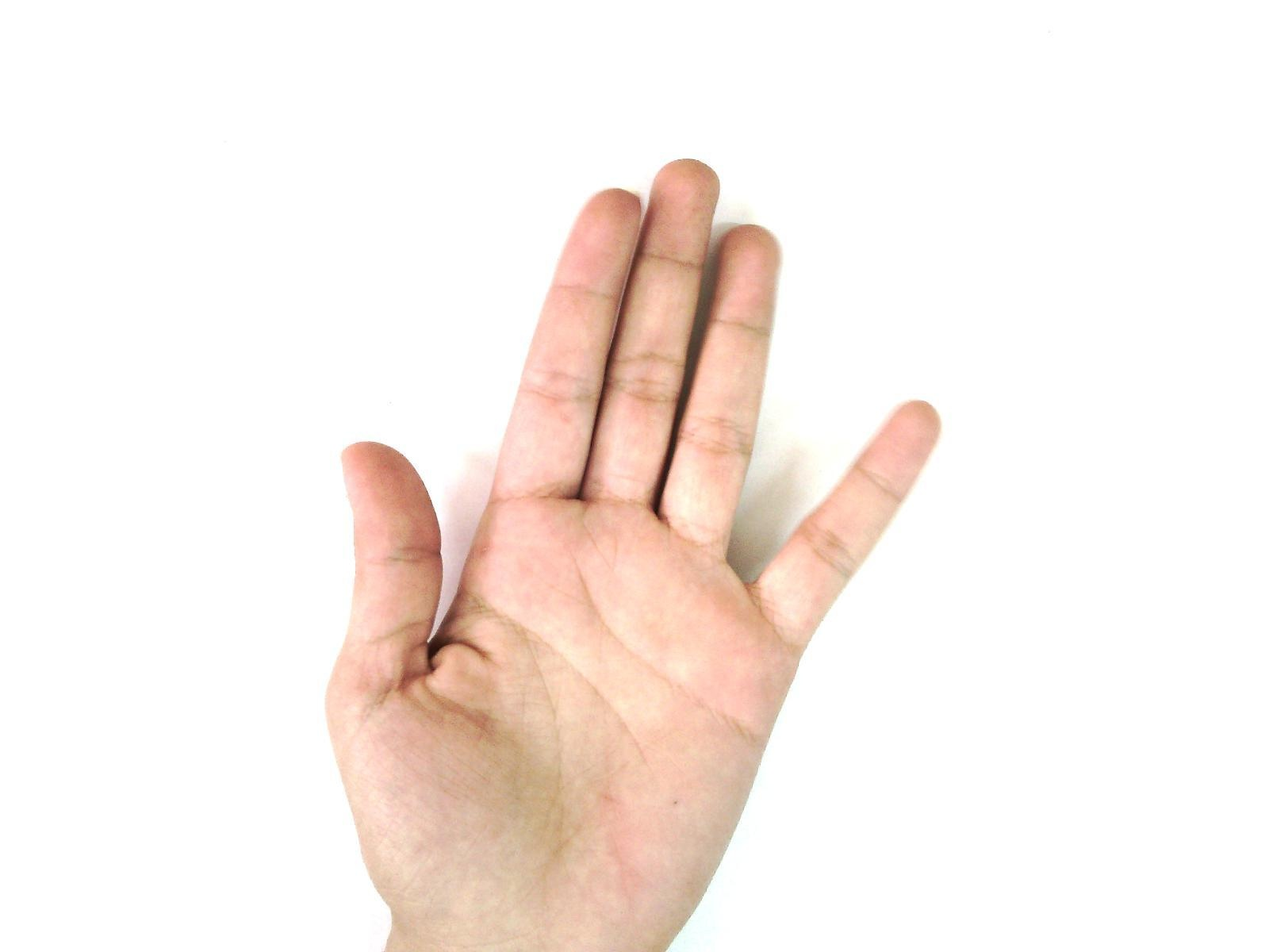open_palm: (322, 157, 944, 951)
